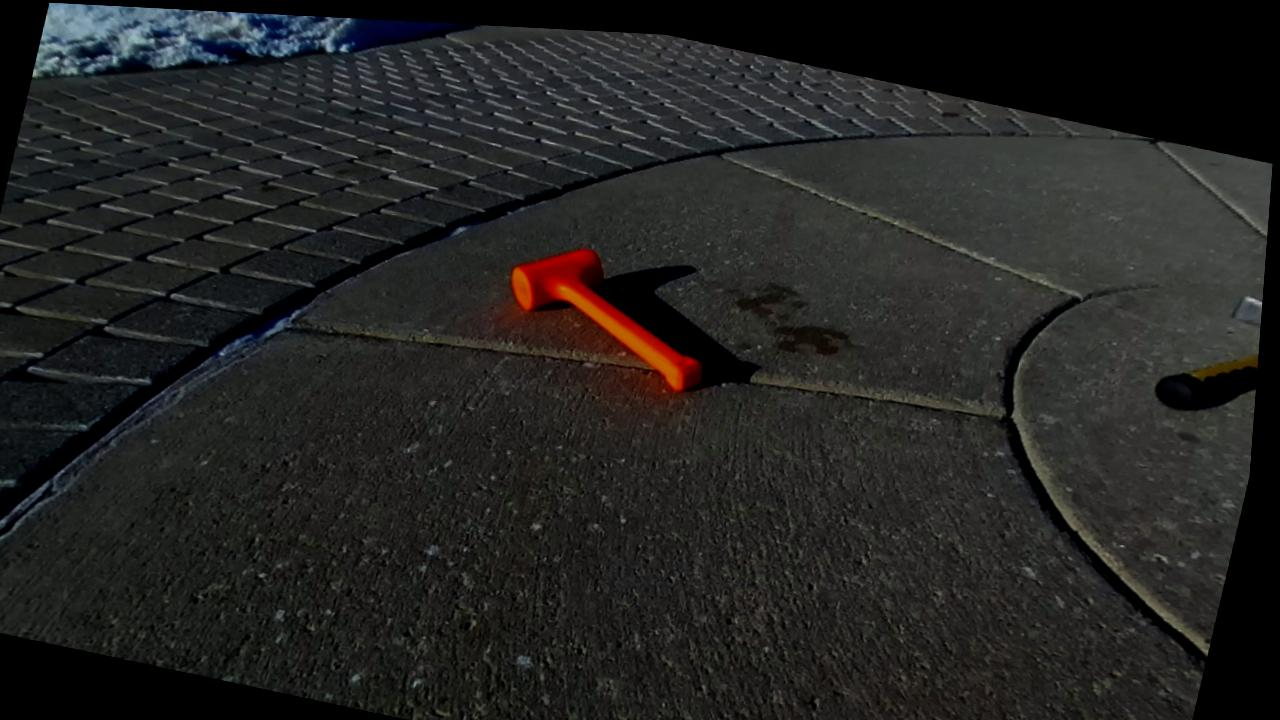mallet: (512, 250, 700, 390)
